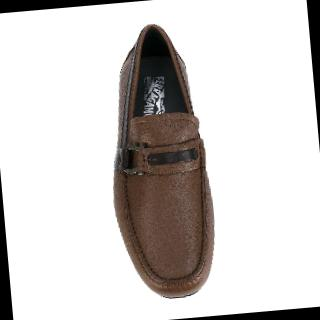loafers: (90, 12, 228, 306)
